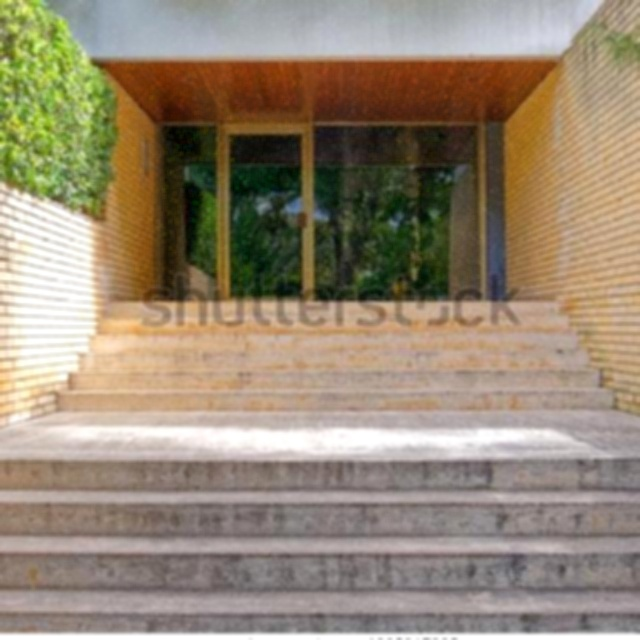stair: (0, 195, 639, 638)
